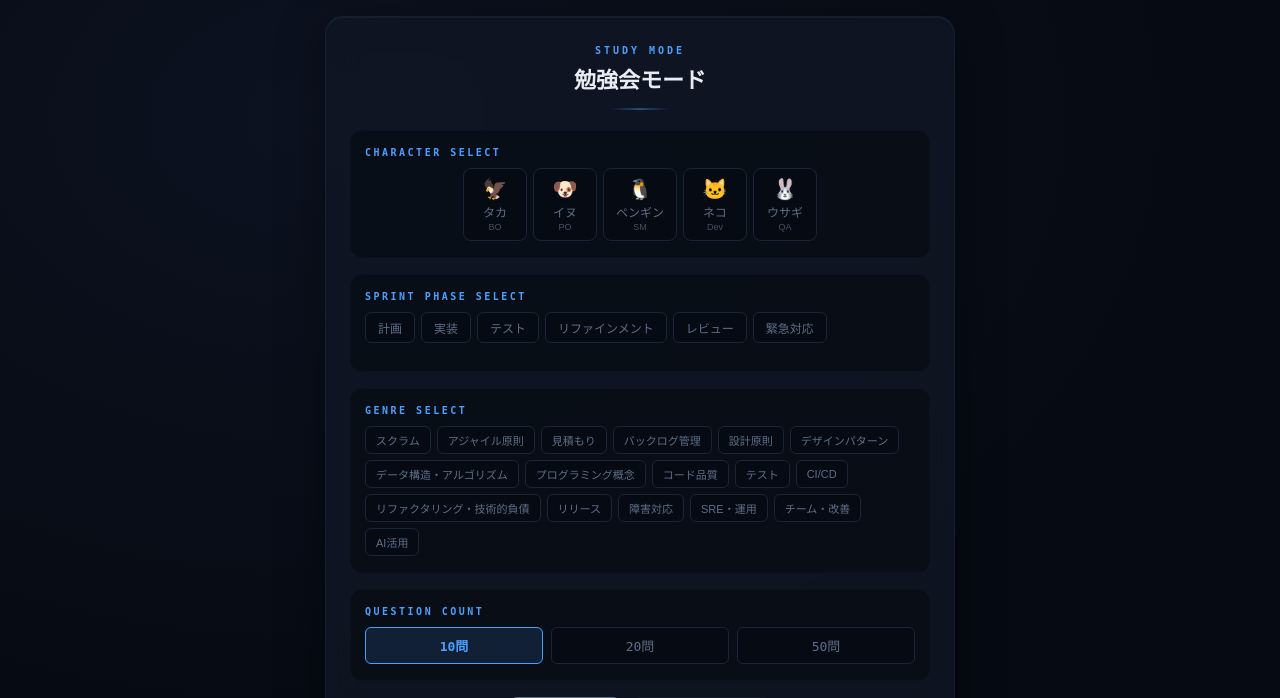
Test: StudySelectScreen - キャラクター選択 › キャラクター選択でジャンル自動選択 › 同じキャラクターを再クリックすると選択が解除される
The image size is (1280, 698).
// タカを2回クリック（選択→解除）
Click the text "タカ".
click(495, 212)  # box [483,203,507,220]
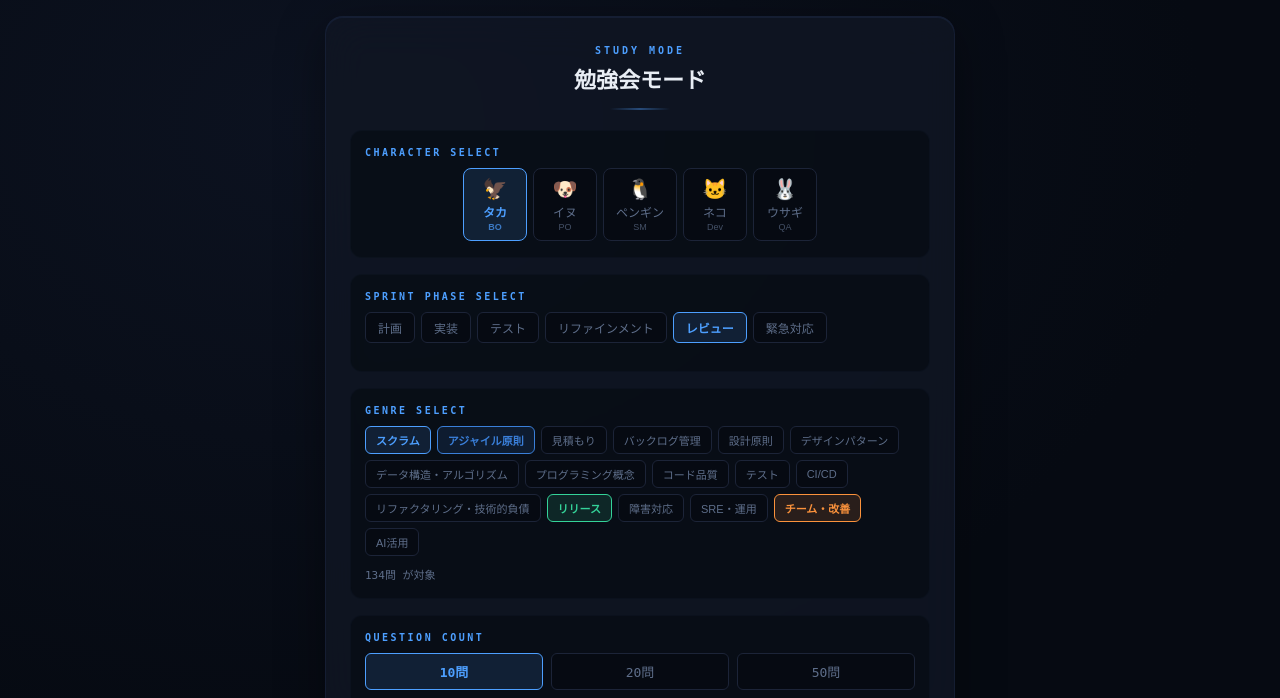
Click the text "タカ".
click(495, 212)  # box [483,203,507,220]
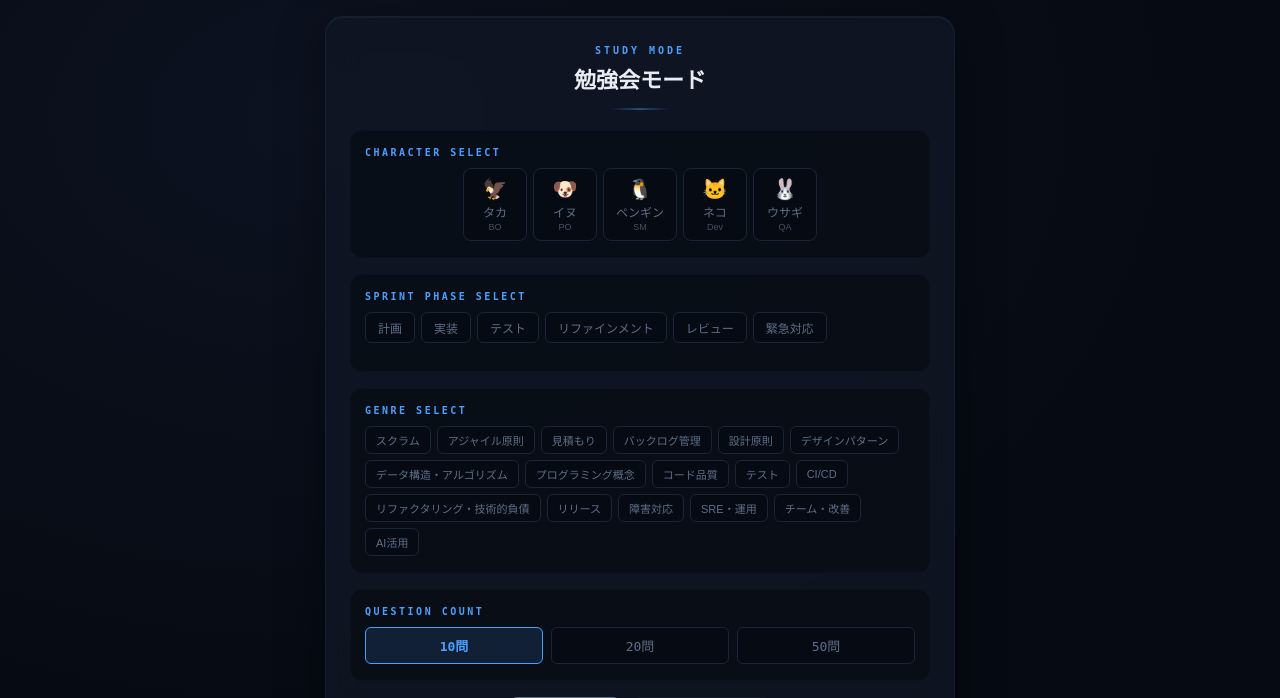
Expected: the text "問 が対象" is gone
